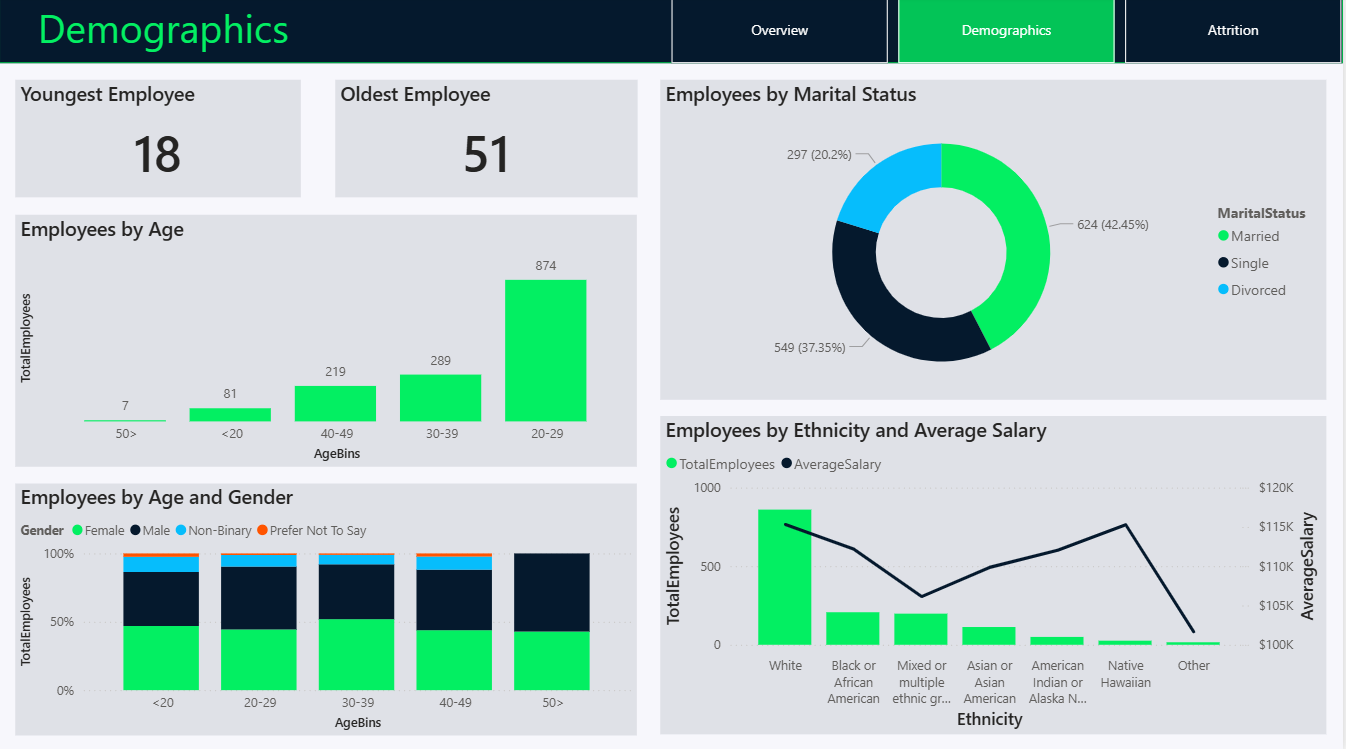

What the dashboard file says about the page in this screenshot:
{"tool":"powerbi","page":{"name":"Demographics","canvas":[1280,720],"ordinal":1},"visuals":[{"type":"card","title":"Youngest Employee","fields":{"Values":["Min(DimEmployee.Age)"]},"box":[16,80,272,112],"z":0},{"type":"card","title":"Oldest Employee","fields":{"Values":["Max(DimEmployee.Age)"]},"box":[320,80,288,112],"z":1000},{"type":"columnChart","title":"Employees by Age","fields":{"Category":["DimEmployee.AgeBins"],"Y":["_Measures.TotalEmployees"]},"box":[16,208,592,240],"z":2000},{"type":"hundredPercentStackedColumnChart","title":"Employees by Age and Gender","fields":{"Category":["DimEmployee.AgeBins"],"Series":["DimEmployee.Gender"],"Y":["_Measures.TotalEmployees"]},"box":[16,464,592,240],"z":3000},{"type":"donutChart","title":"Employees by Marital Status","fields":{"Category":["DimEmployee.MaritalStatus"],"Y":["_Measures.TotalEmployees"]},"box":[629.8,79.8,634.5,304.8],"z":4000},{"type":"lineStackedColumnComboChart","title":"Employees by Ethnicity and Average Salary","fields":{"Category":["DimEmployee.Ethnicity"],"Y":["_Measures.TotalEmployees"],"Y2":["_Measures.AverageSalary"]},"box":[629.8,400,634.5,303.6],"z":5000},{"type":"shape","box":[0,0,1280,64],"z":6000},{"type":"textbox","box":[32,0,624,64],"z":7000},{"type":"pageNavigator","box":[640,0,640,64],"z":8000}]}

Visuals, with their boxes in screenshot pixels (x1, y1, x2, y2), scaled from the page's 1280x720 canvas onto the 1346x749 screenshot:
"Youngest Employee" card: l=17, t=83, r=303, b=200
"Oldest Employee" card: l=336, t=83, r=639, b=200
"Employees by Age" columnChart: l=17, t=216, r=639, b=466
"Employees by Age and Gender" hundredPercentStackedColumnChart: l=17, t=483, r=639, b=732
"Employees by Marital Status" donutChart: l=662, t=83, r=1329, b=400
"Employees by Ethnicity and Average Salary" lineStackedColumnComboChart: l=662, t=416, r=1329, b=732
shape: l=0, t=0, r=1345, b=67
textbox: l=34, t=0, r=690, b=67
pageNavigator: l=673, t=0, r=1345, b=67
